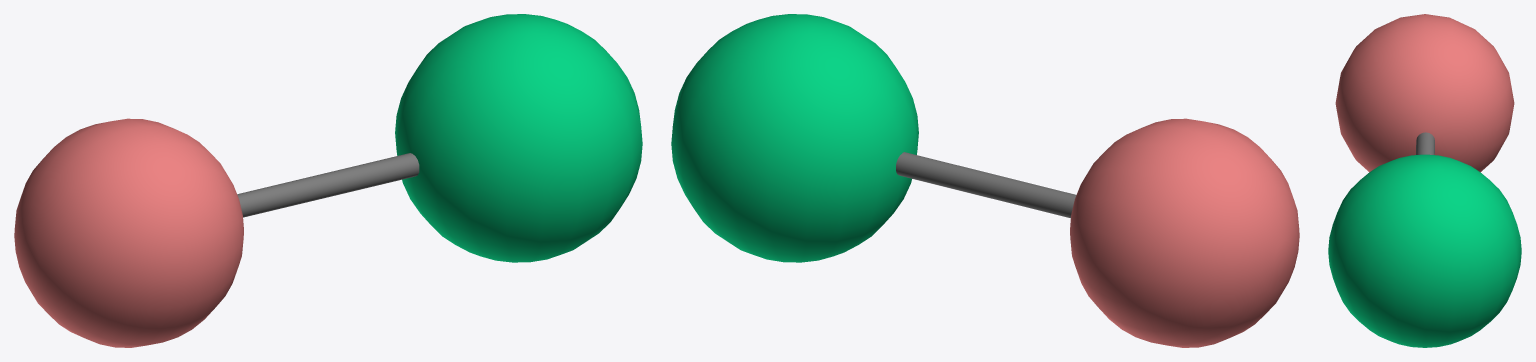
3 renders of one model, left to right at view 1: azimuth 30°, elevation 25°; view 2: azimuth 150°, elevation 25°; view 3: azimuth 270°, elevation 25°, orthographic. The views are drawn at different scales.
Visible parts, largest first — view 1: KF; view 2: KF; view 3: KF.
Part boxes in pixels (bbox=[...]): KF: bbox=[14, 14, 642, 347]; KF: bbox=[671, 14, 1299, 347]; KF: bbox=[1328, 14, 1521, 347].
Bounding box in the file's own units: 5.54 × 2 × 2.
